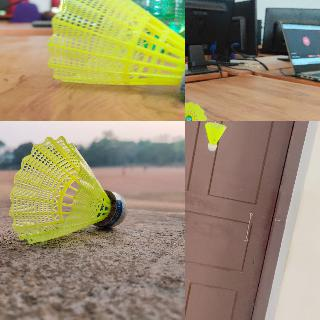shuttlecock: (47, 0, 184, 96), (8, 136, 126, 242), (204, 122, 226, 150), (185, 102, 207, 120)
